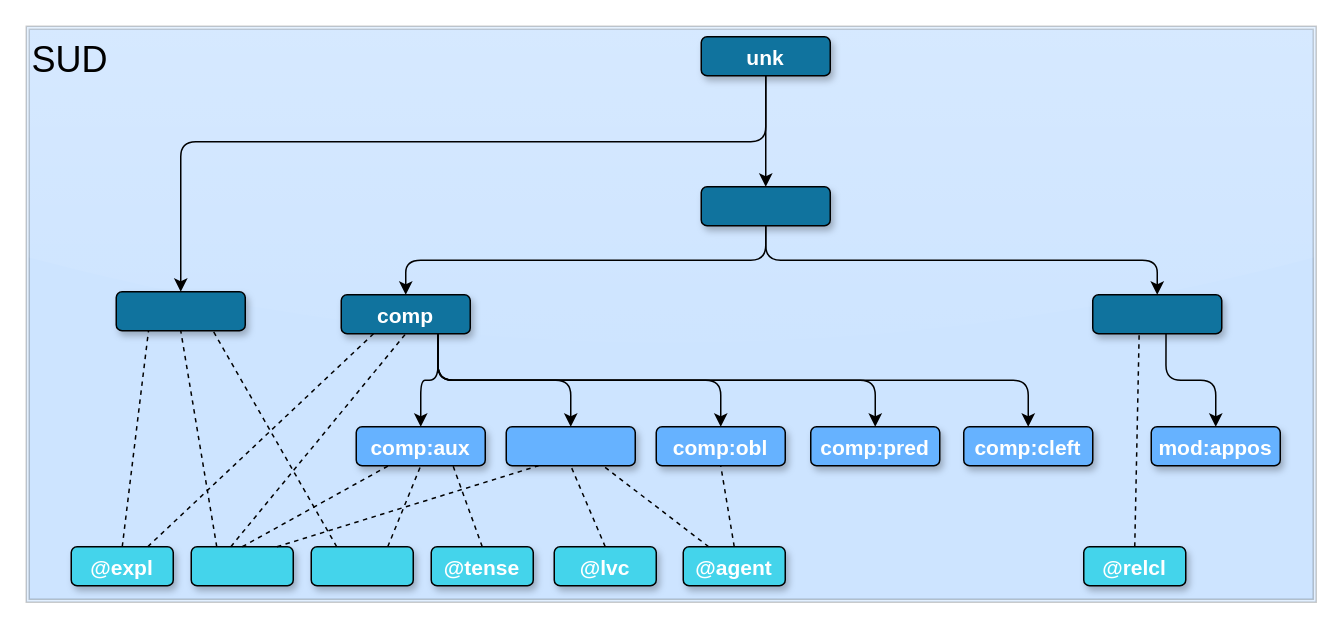
Some shapes in this 1343 by 629 pixel diagram are drawn without their labels. Each missing label, with the centre of its shape:
"@caus" belongs at [363,567].
"@pass" belongs at [243,567].
"comp:obj" belongs at [571,447].
"mod" belongs at [1158,315].
"subj" belongs at [181,312].
"udep" belongs at [766,207].
